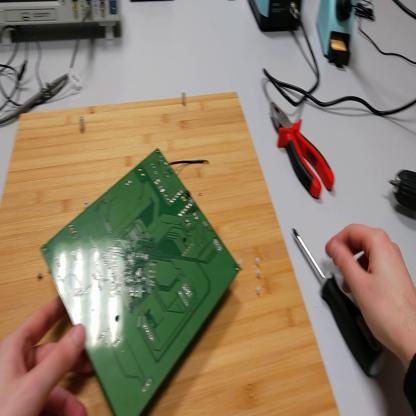electric screwdriver: (389, 171, 416, 211)
hand: (328, 223, 415, 359), (2, 298, 87, 416)
low voltage board: (40, 149, 242, 415)
oscilloscope: (2, 2, 123, 44)
oscilloscope probe tip: (2, 73, 69, 125)
pliers: (270, 103, 337, 203)
screwdriver-: (292, 227, 390, 382)
welder base: (317, 1, 356, 74)
welder station: (249, 2, 304, 35)
working area: (2, 93, 340, 416)
